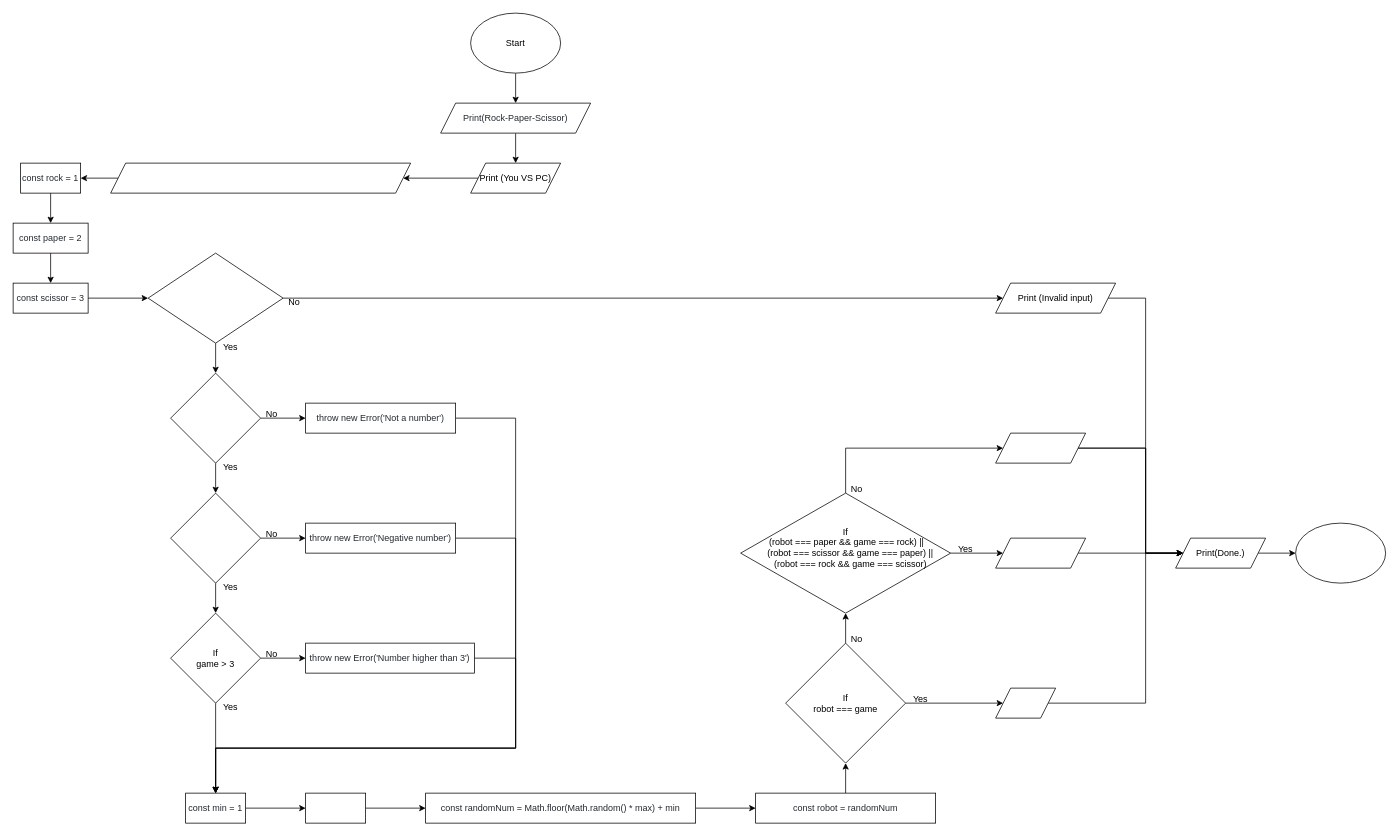
Some shapes in this 1399 by 836 pixel diagram are drawn without their labels. Each missing label, with the centre of its shape:
const max = 3: (335,807)
Get gameString ( Please pick rock(1), paper(2) or scissor(3): ): (260,177)
If game < 1: (215,537)
If isNaN(game): (215,417)
Print(PC wins!): (1040,552)
Print(Tie!): (1025,702)
Print(You win!): (1040,447)
Stop: (1340,552)
Try const game = parseFloat(gameString): (215,297)
